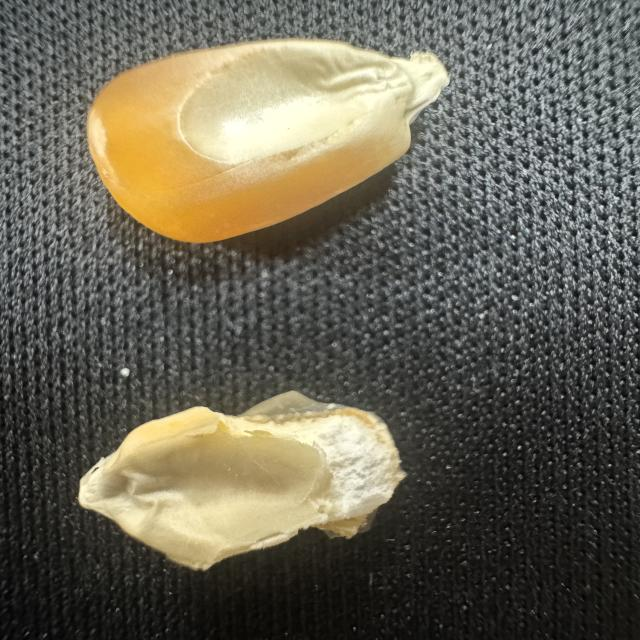Bad-Seed: (64, 378, 414, 581)
Good-Seed: (86, 31, 462, 250)
